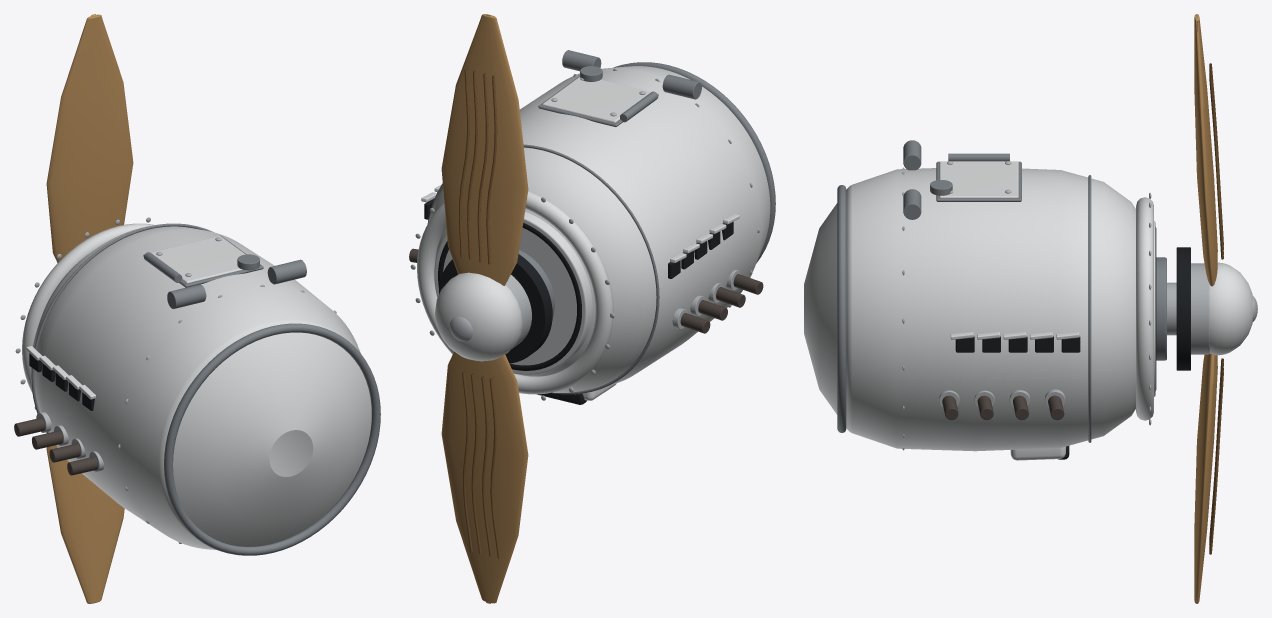
The model's file is prop_engine.glb.
The picture shows the model from 3 angles, left to right: view 1: azimuth 30°, elevation 25°; view 2: azimuth 150°, elevation 25°; view 3: azimuth 270°, elevation 25°; orthographic projection.
Parts seen in each view (by area): view 1: painted_cowl, wood_blade.001, rear_mount_ring, wood_blade, service_panel_inset, front_rolled_lip, front_panel_seam, top_mount, top_mount.001; view 2: painted_cowl, wood_blade.001, wood_blade, front_rolled_lip, front_face, painted_spinner, service_panel_inset, prop_back_plate, rear_mount_ring, front_panel_seam, annular_cooling_slot, prop_hub_metal (+10 smaller); view 3: painted_cowl, front_rolled_lip, wood_blade.001, wood_blade, painted_spinner, service_panel_inset, rear_mount_ring, prop_back_plate, prop_hub_metal, gearbox_face, front_panel_seam, lower_intake_lip (+2 smaller).
Boxes of the visible parts, <box> form: painted_cowl: <box>30,226,371,549</box>; wood_blade.001: <box>46,14,133,262</box>; rear_mount_ring: <box>164,323,380,555</box>; wood_blade: <box>46,445,124,603</box>; service_panel_inset: <box>151,236,245,283</box>; front_rolled_lip: <box>22,223,154,392</box>; front_panel_seam: <box>31,223,213,445</box>; top_mount: <box>167,284,206,308</box>; top_mount.001: <box>267,259,306,284</box>; painted_cowl: <box>428,66,770,392</box>; wood_blade.001: <box>441,14,528,285</box>; wood_blade: <box>441,351,528,603</box>; front_rolled_lip: <box>417,191,613,394</box>; front_face: <box>434,212,592,374</box>; painted_spinner: <box>434,272,522,361</box>; service_panel_inset: <box>542,77,650,122</box>; prop_back_plate: <box>439,254,552,363</box>; rear_mount_ring: <box>613,62,775,262</box>; front_panel_seam: <box>427,144,659,394</box>; annular_cooling_slot: <box>438,222,581,370</box>; prop_hub_metal: <box>505,275,531,349</box>; painted_cowl: <box>804,168,1135,451</box>; front_rolled_lip: <box>1136,197,1153,420</box>; wood_blade.001: <box>1194,14,1217,286</box>; wood_blade: <box>1194,354,1217,603</box>; painted_spinner: <box>1209,262,1252,355</box>; service_panel_inset: <box>939,161,1018,197</box>; rear_mount_ring: <box>837,185,846,432</box>; prop_back_plate: <box>1176,247,1190,370</box>; prop_hub_metal: <box>1191,263,1209,354</box>; gearbox_face: <box>1156,257,1166,360</box>; front_panel_seam: <box>1088,175,1091,442</box>; lower_intake_lip: <box>1010,446,1065,460</box>.
Size of the model in its own units: 1.35 by 2.57 by 1.8.
